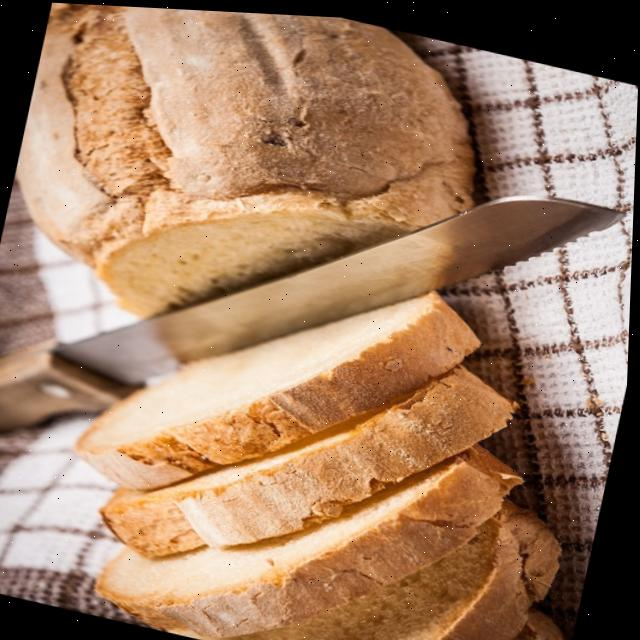Bread: (100, 439, 525, 633), (79, 287, 481, 487), (163, 360, 515, 543)
